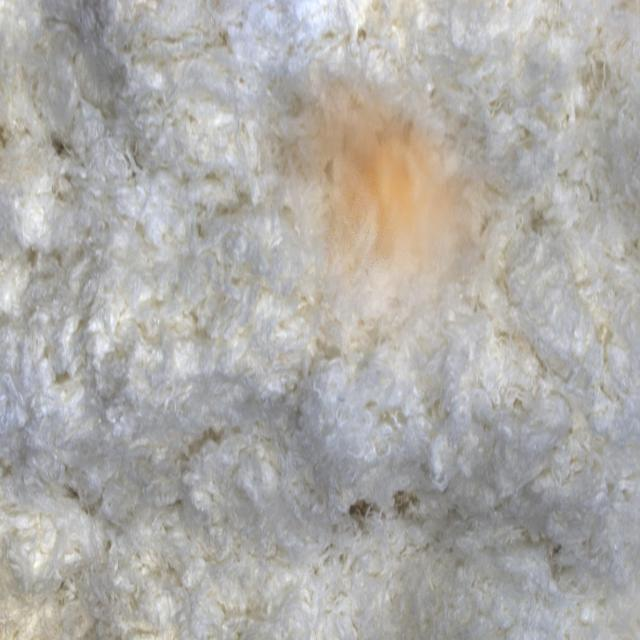dust: (257, 63, 510, 389)
